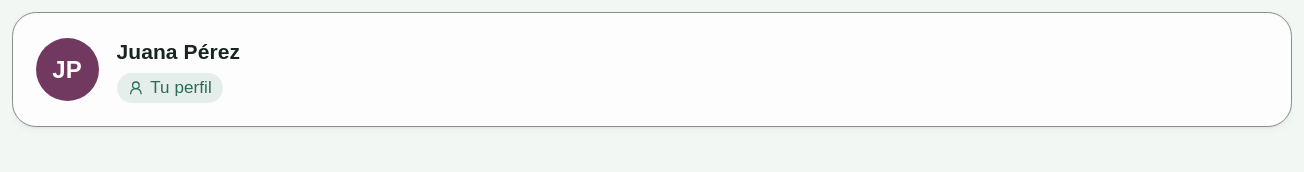
Test: TarjetaDestino — guardia anti doble-envío › dos toques sincrónicos disparan elegirPerfilParaCompartido UNA sola vez
Click the button "JP Juana Pérez Tu perfil".
click(67, 69)  # box [12,12,1292,127]
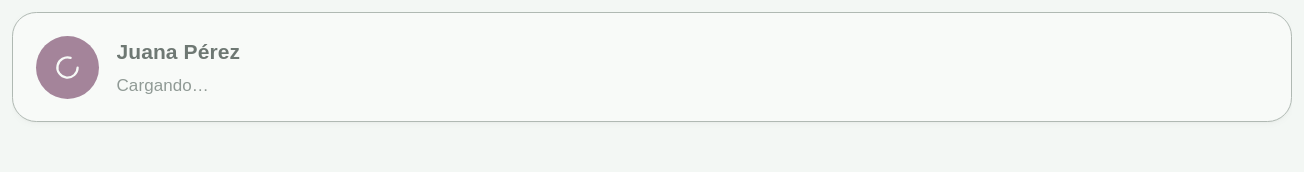
Click the button "Juana Pérez Cargando…".
click(67, 67)  # box [12,12,1292,122]
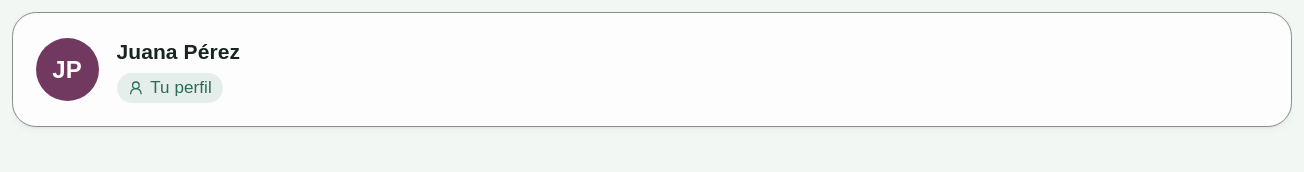
Expected: the button "JP Juana Pérez Tu perfil" is enabled
